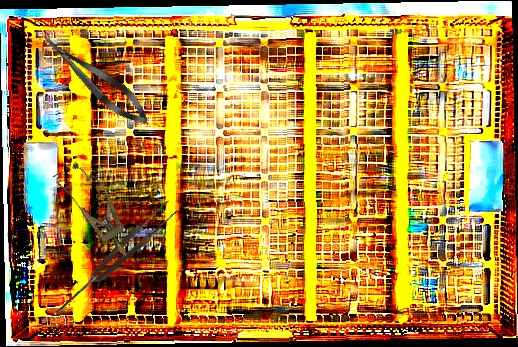Micro Scissor: (35, 25, 156, 133)
Speculum: (51, 155, 143, 267)
Tissue Forceps: (47, 198, 181, 321)
